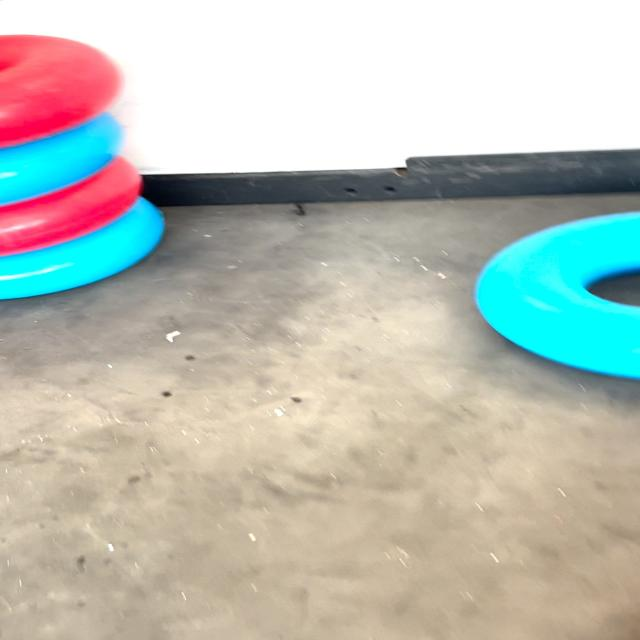Blue-Ring: (476, 212, 640, 378), (0, 198, 164, 298), (0, 112, 122, 204)
Red-Ring: (0, 158, 142, 256), (0, 35, 120, 147)
